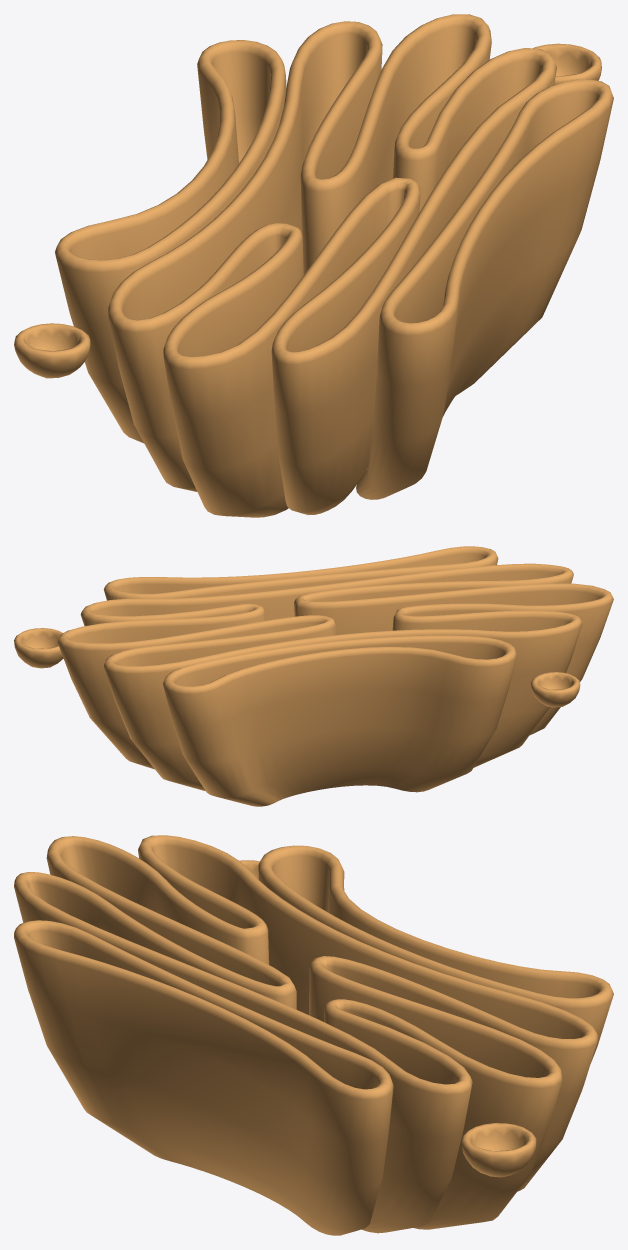
Rendered from apparato di golgi.glb.
3 views of the same model, one above another, from view 1: azimuth 30°, elevation 25°; view 2: azimuth 150°, elevation 25°; view 3: azimuth 270°, elevation 25° (orthographic). The views are drawn at different scales.
Parts seen in each view (by area): view 1: BezierCurve.002; view 2: BezierCurve.002; view 3: BezierCurve.002.
Part boxes in pixels (x1,y1,x2,y2): BezierCurve.002: [14, 14, 613, 517]; BezierCurve.002: [14, 546, 613, 806]; BezierCurve.002: [14, 835, 613, 1235].
Size of the model in its own units: 2.32 by 0.7305 by 1.92.
